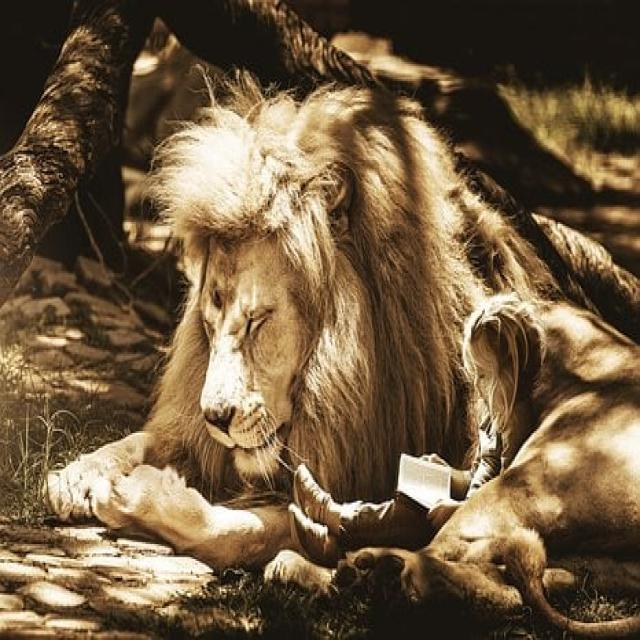Lion: (48, 70, 639, 636)
